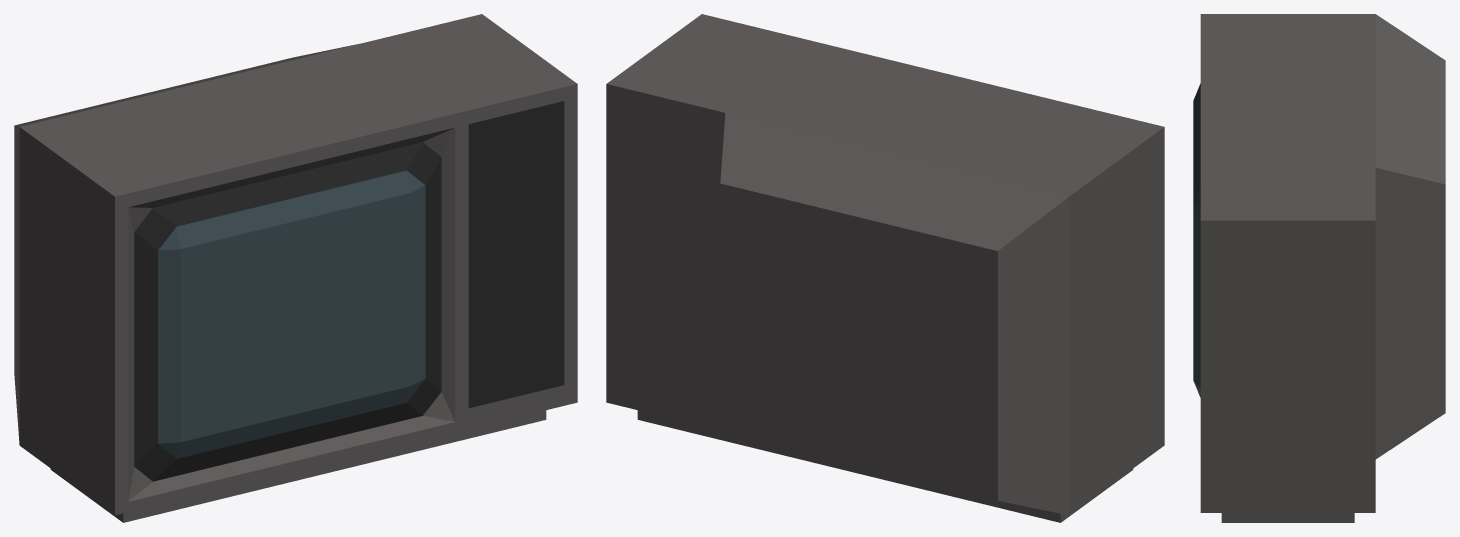
The model's file is electronics_television-old.fbx.
3 renders of one model, left to right at view 1: azimuth 30°, elevation 25°; view 2: azimuth 150°, elevation 25°; view 3: azimuth 270°, elevation 25°, orthographic. The views are drawn at different scales.
Parts seen in each view (by area): view 1: electronics_television_old; view 2: electronics_television_old; view 3: electronics_television_old.
Part boxes in pixels (x1,y1,x2,y2): electronics_television_old: [14, 14, 577, 522]; electronics_television_old: [606, 14, 1164, 522]; electronics_television_old: [1193, 14, 1445, 522].
Size of the model in its own units: 200 by 140 by 103.
